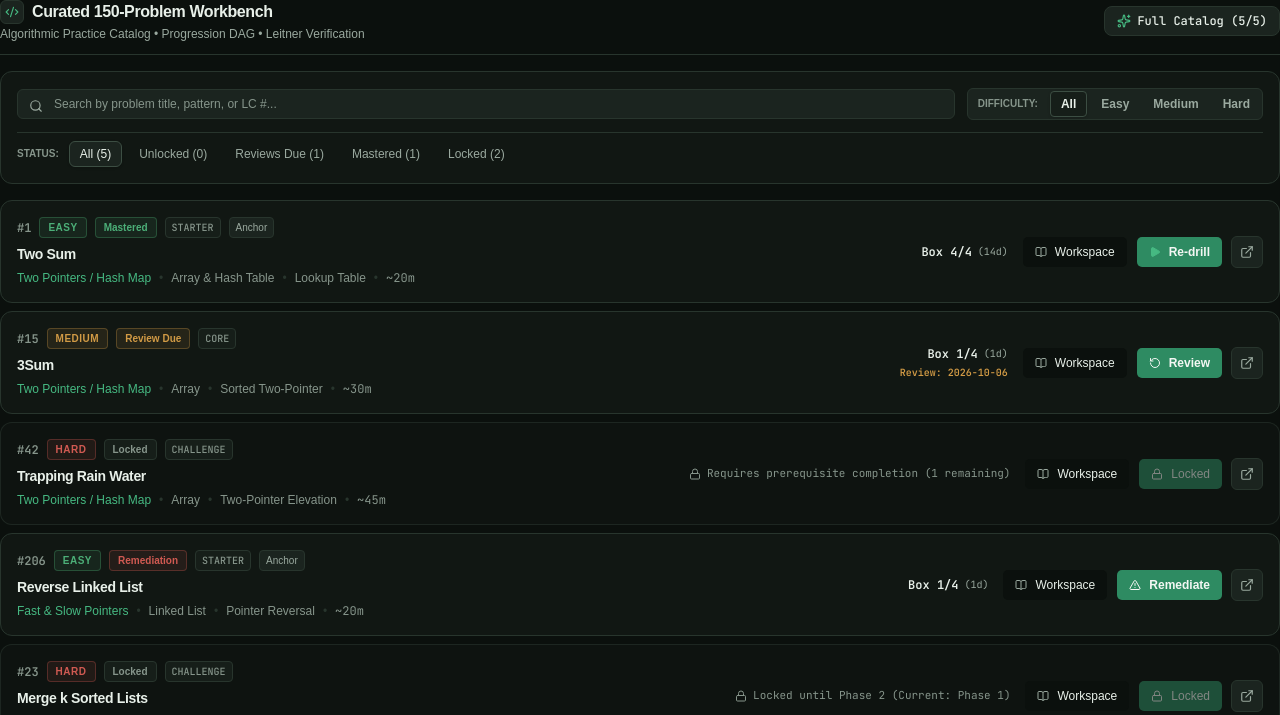
Scenario: Zone 5: DSA Problem Workbench › 5. filters problems by status pills (all, unlocked, due, mastered, locked)
This screenshot has width=1280, height=715.
Mastered tab
Click the button "Mastered (1)" at (386,154), box [341,141,431,167]
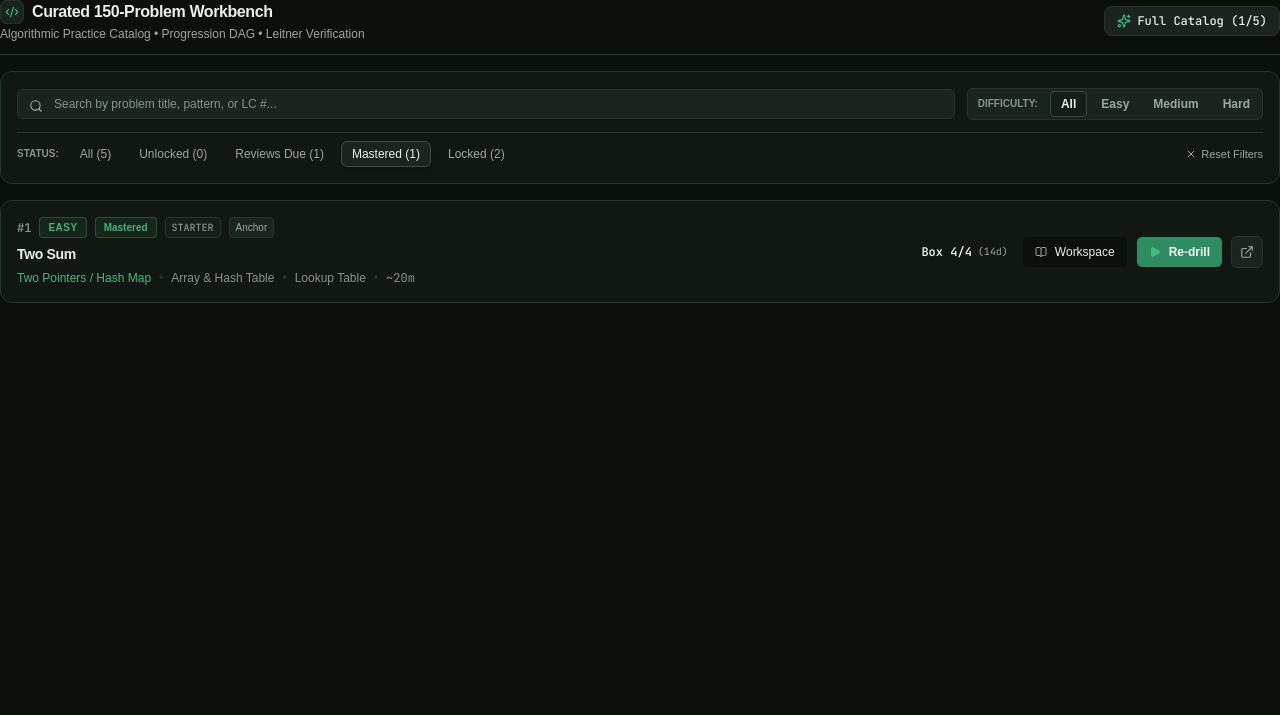
expect the heading "Two Sum" is shown: met, box [17,246,76,262]
expect the heading "3Sum" is gone: met
Reviews Due tab
Click the button "Reviews Due (1)" at (280,154), box [224,141,335,167]
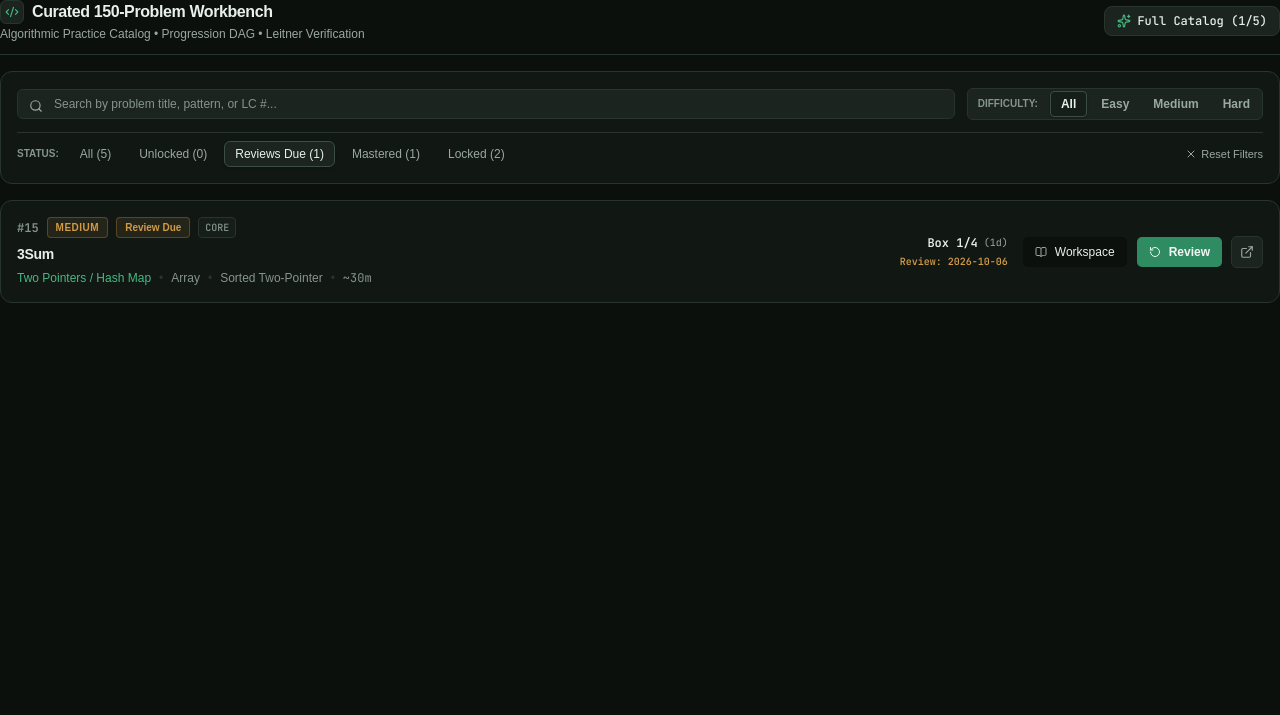
expect the heading "3Sum" is shown: met, box [17,246,54,262]
expect the heading "Two Sum" is gone: met
Locked tab (dsa-003 requires dsa-002 to be passed, dsa-005 is phase 2)
Click the button "Locked (2)" at (476,154), box [437,141,516,167]
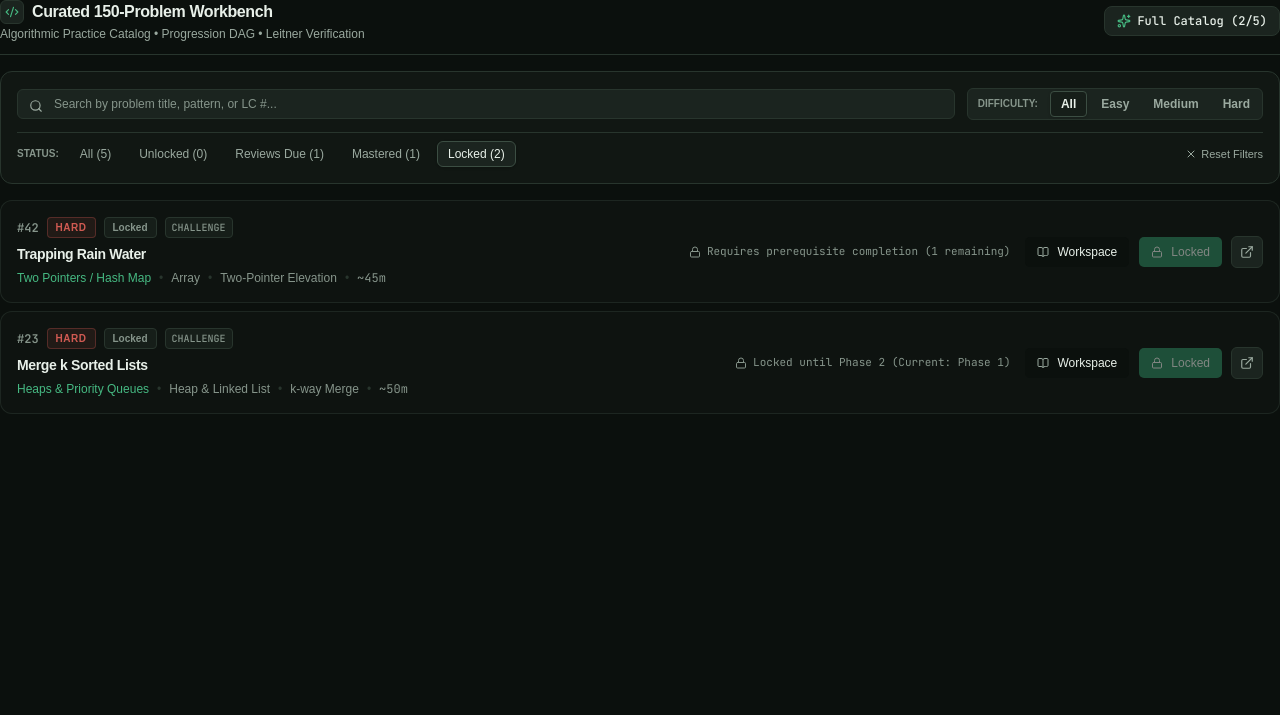
expect the heading "Two Sum" is not shown: met
expect the heading "Trapping Rain Water" is shown: met, box [17,246,146,262]
expect the heading "Merge k Sorted Lists" is shown: met, box [17,357,148,373]
